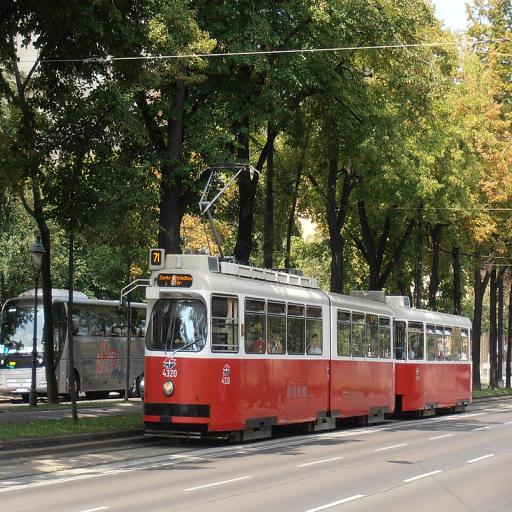E2-Tram: (139, 244, 476, 442)
